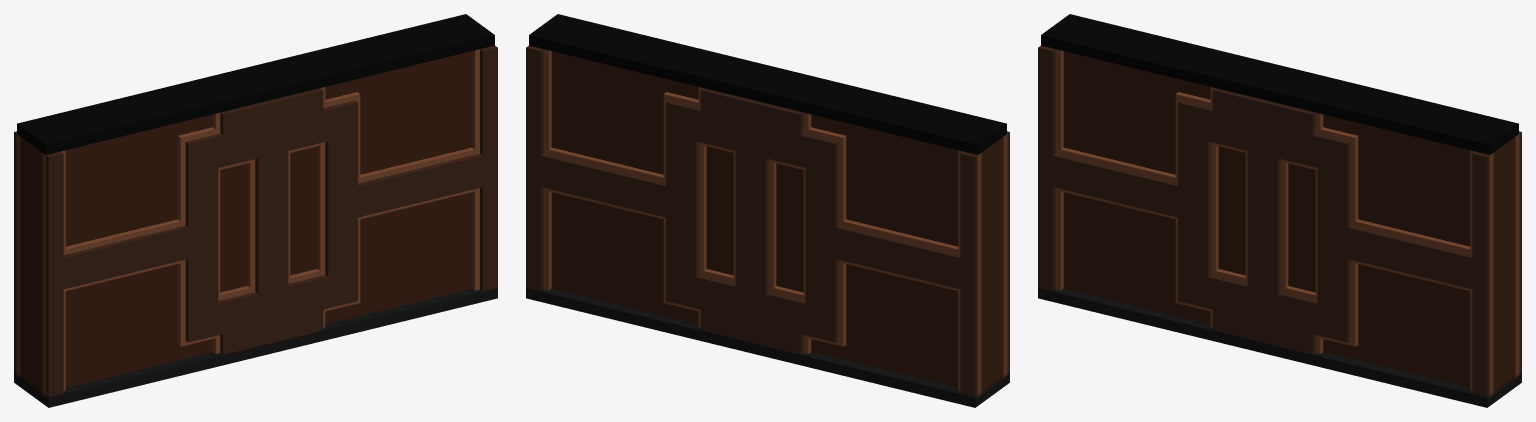
Rendered from Wall-Wood-Model-06.fbx.
3 renders of one model, left to right at view 1: azimuth 30°, elevation 25°; view 2: azimuth 150°, elevation 25°; view 3: azimuth 330°, elevation 25°, orthographic.
Parts seen in each view (by area): view 1: Wall-Wood-Model-06; view 2: Wall-Wood-Model-06; view 3: Wall-Wood-Model-06.
Boxes of the visible parts, x1,y1,x2,y2 form: Wall-Wood-Model-06: [14, 14, 497, 407]; Wall-Wood-Model-06: [526, 14, 1009, 407]; Wall-Wood-Model-06: [1038, 14, 1521, 407].
Size of the model in its own units: 90 by 50 by 12.
Materials: 1 (1 with a texture image).
